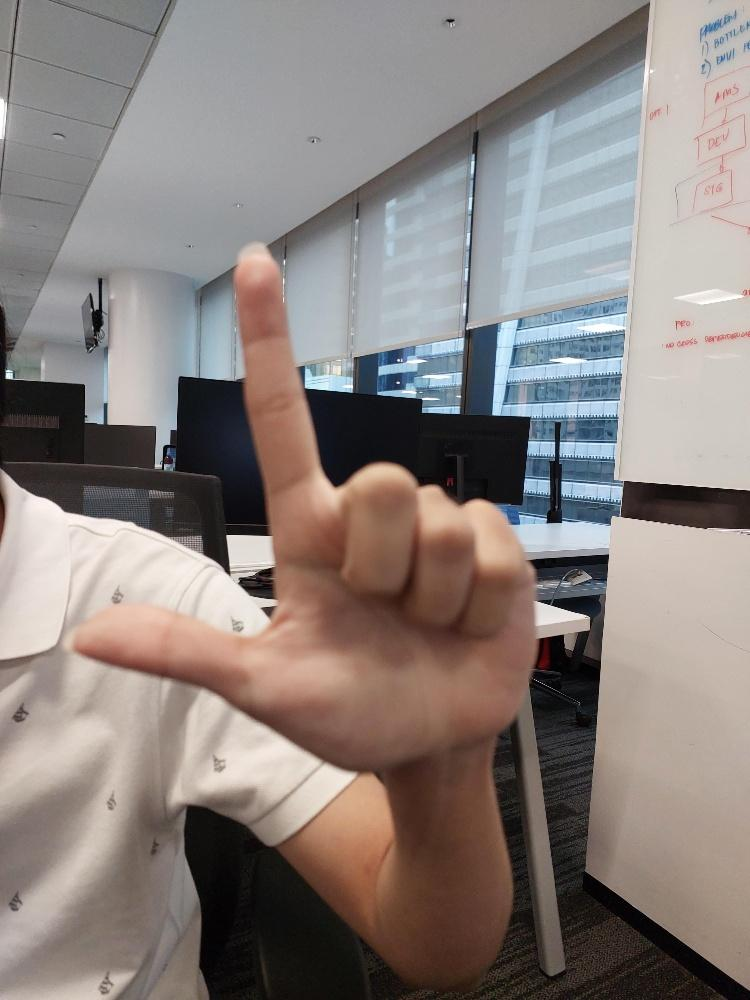l: (69, 244, 536, 779)
